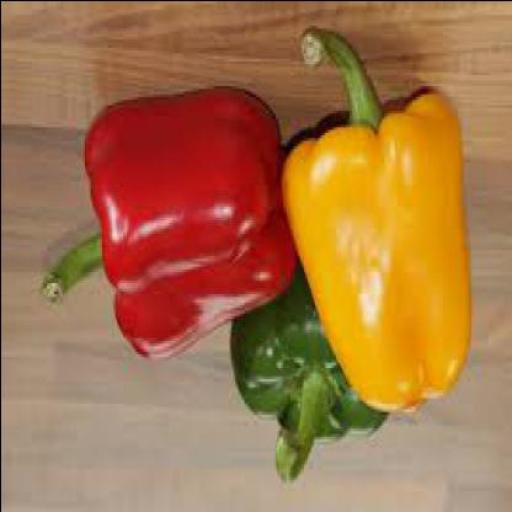biodegradable: (278, 27, 468, 416), (38, 88, 296, 361), (228, 258, 388, 484)
